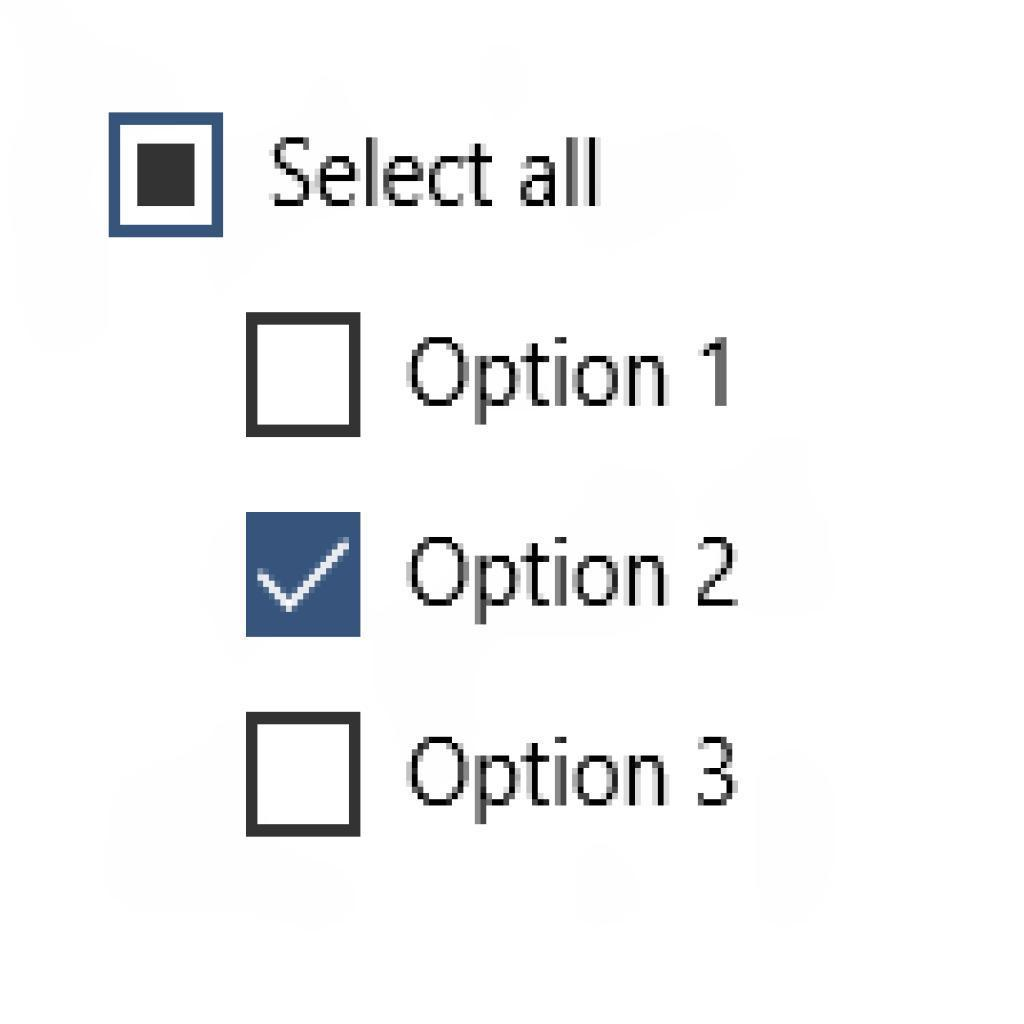checkbox: (242, 708, 367, 845), (242, 310, 369, 442), (242, 508, 366, 642), (106, 109, 228, 242)
